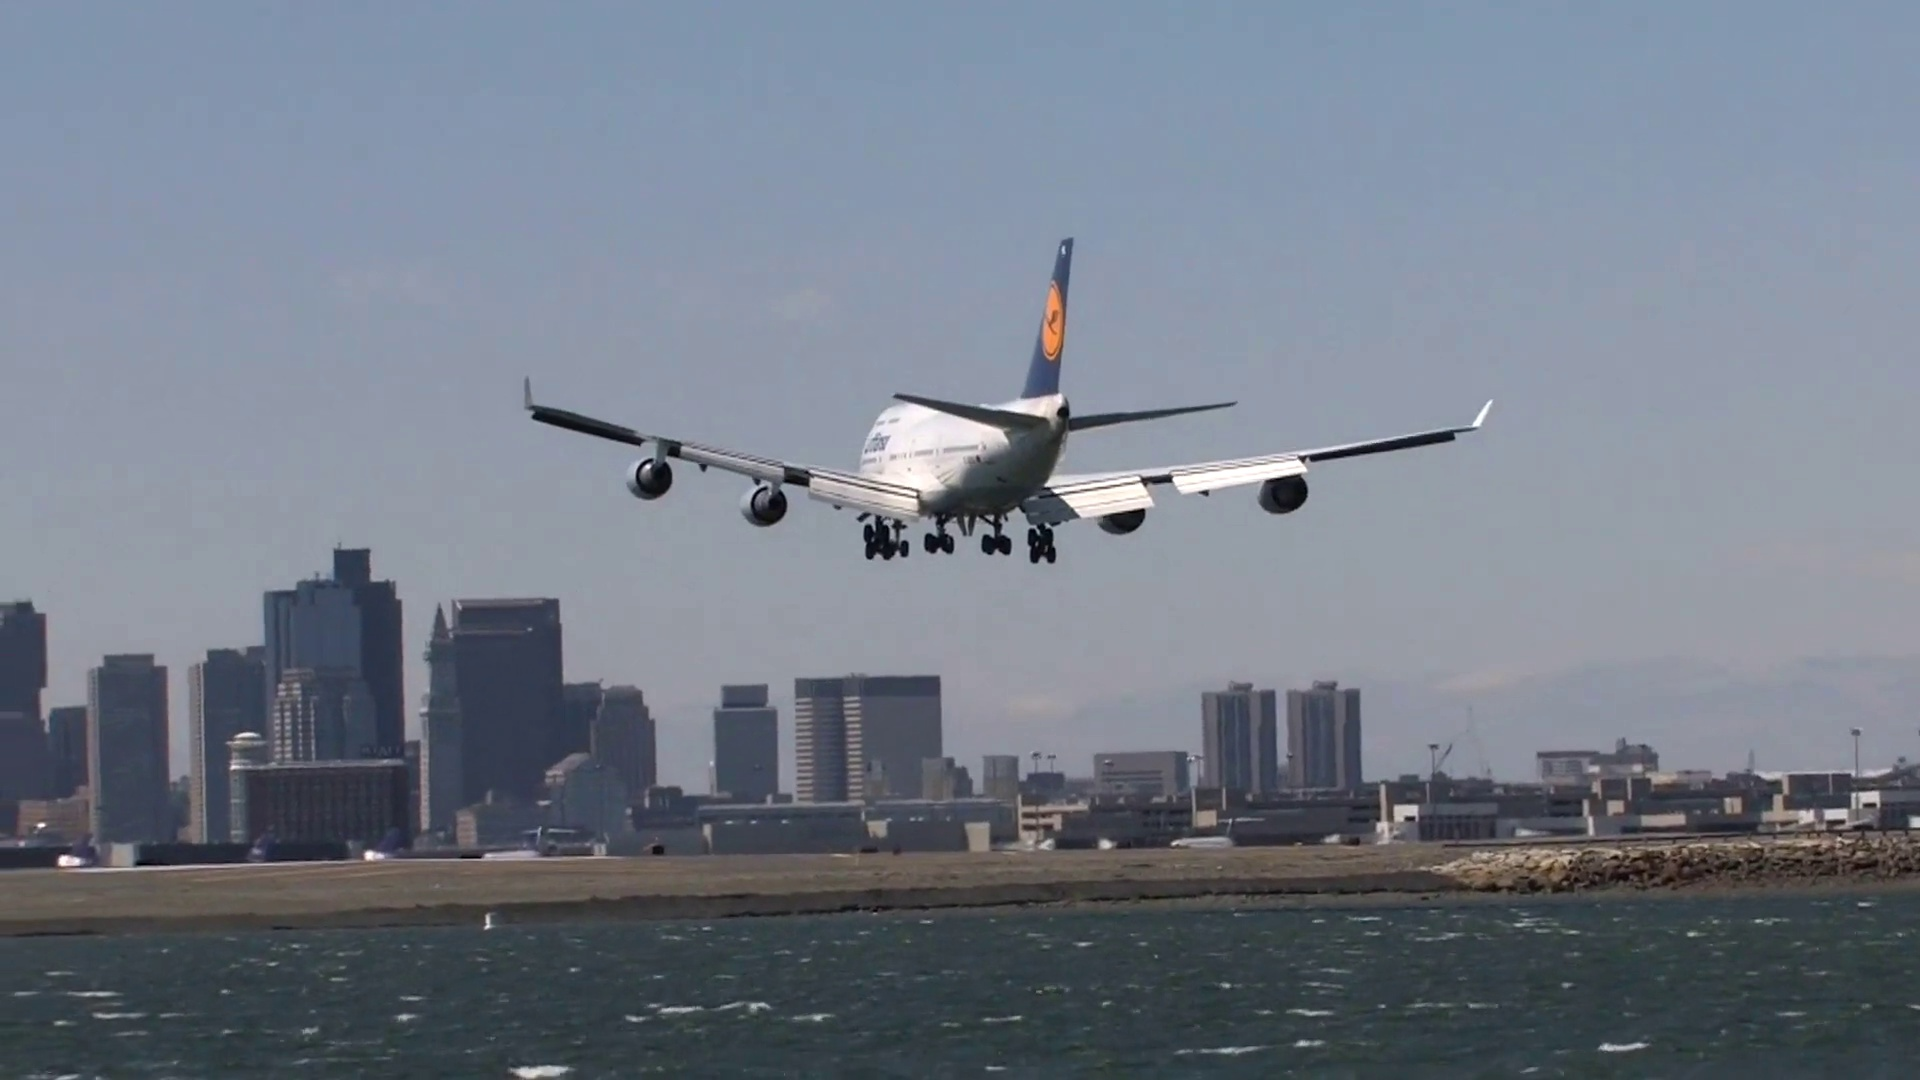plane: (522, 236, 1495, 564)
